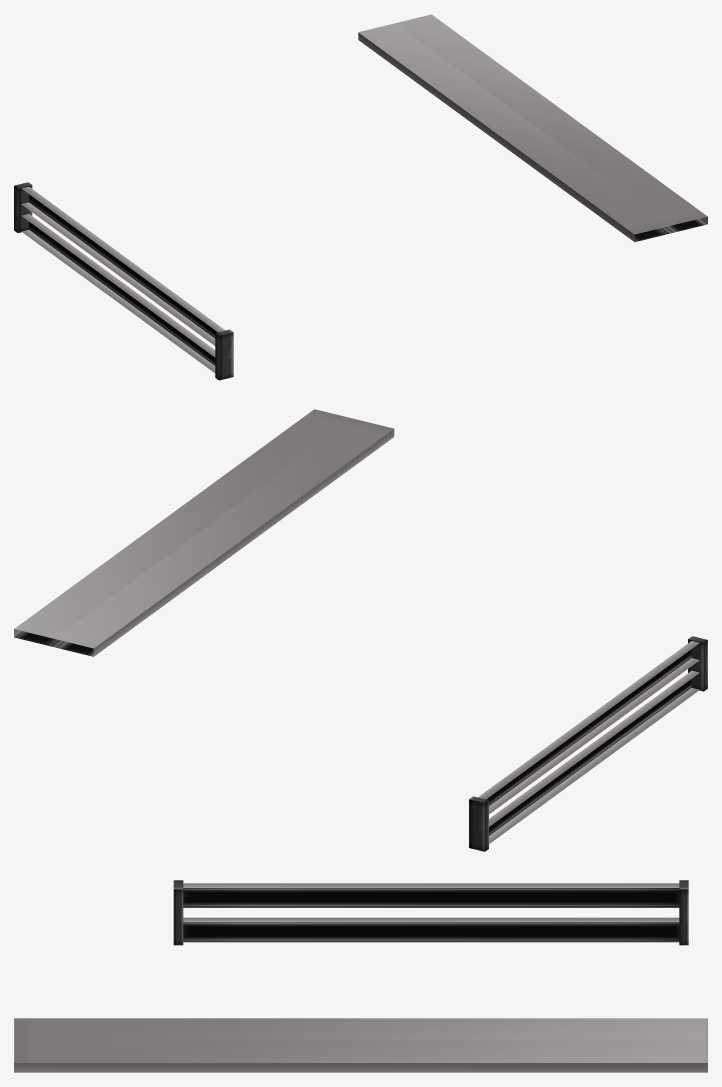
The model's file is BurnersTrial_Bearings.fbx.
The picture shows the model from 3 angles, top to bottom: view 1: azimuth 30°, elevation 25°; view 2: azimuth 150°, elevation 25°; view 3: azimuth 270°, elevation 25°; orthographic projection. The views are drawn at different scales.
Parts seen in each view (by area): view 1: BurnerBearings; view 2: BurnerBearings; view 3: BurnerBearings.
Boxes of the visible parts, <box> form: BurnerBearings: <box>14,14,707,380</box>; BurnerBearings: <box>14,409,707,851</box>; BurnerBearings: <box>14,880,707,1072</box>.
Size of the model in its own units: 2951 by 707 by 3320.
Materials: 2 (2 with a texture image).
